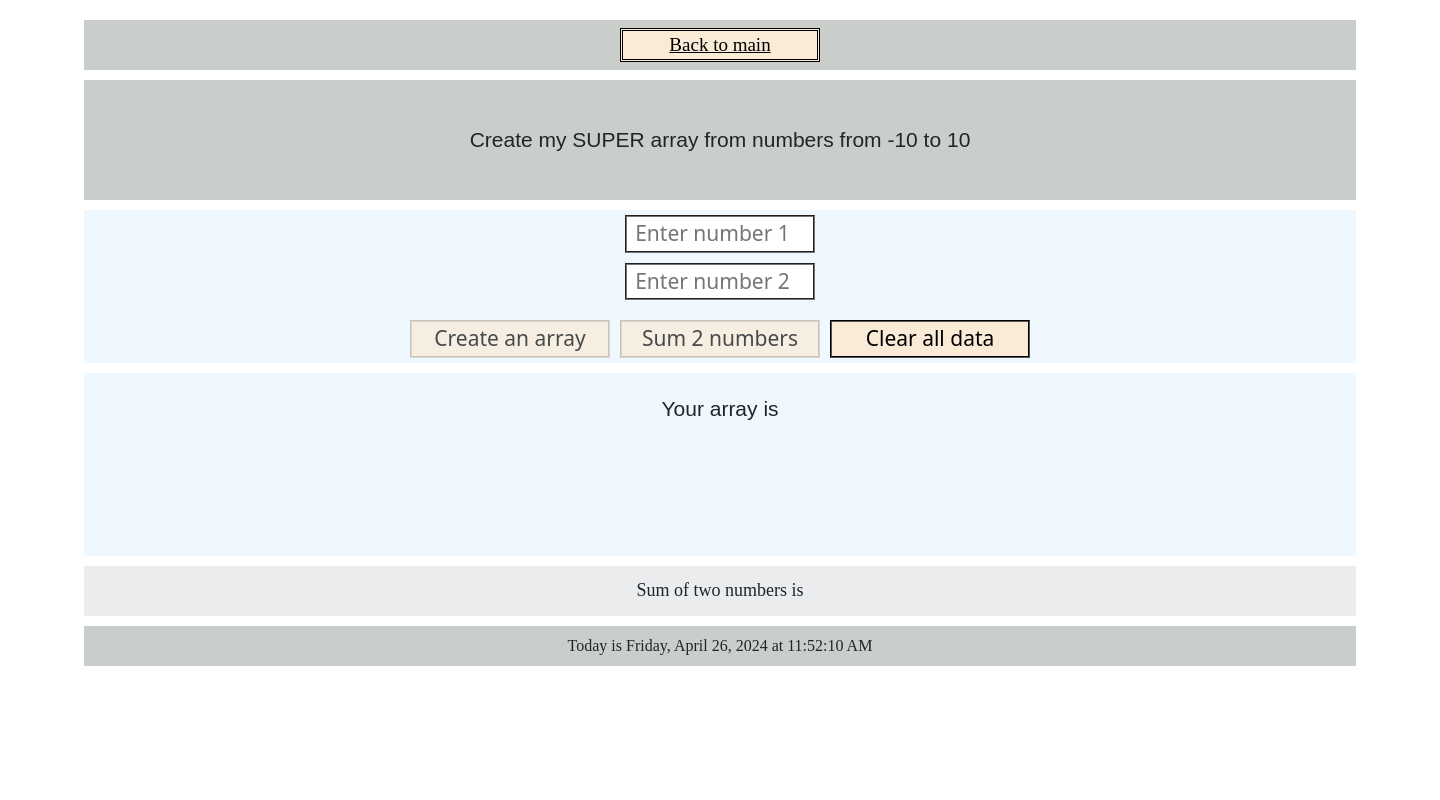
it: check options - validation of one item with blur › input no item
Focus the number field with id "num1" at (720,234), box [625,215,815,253]
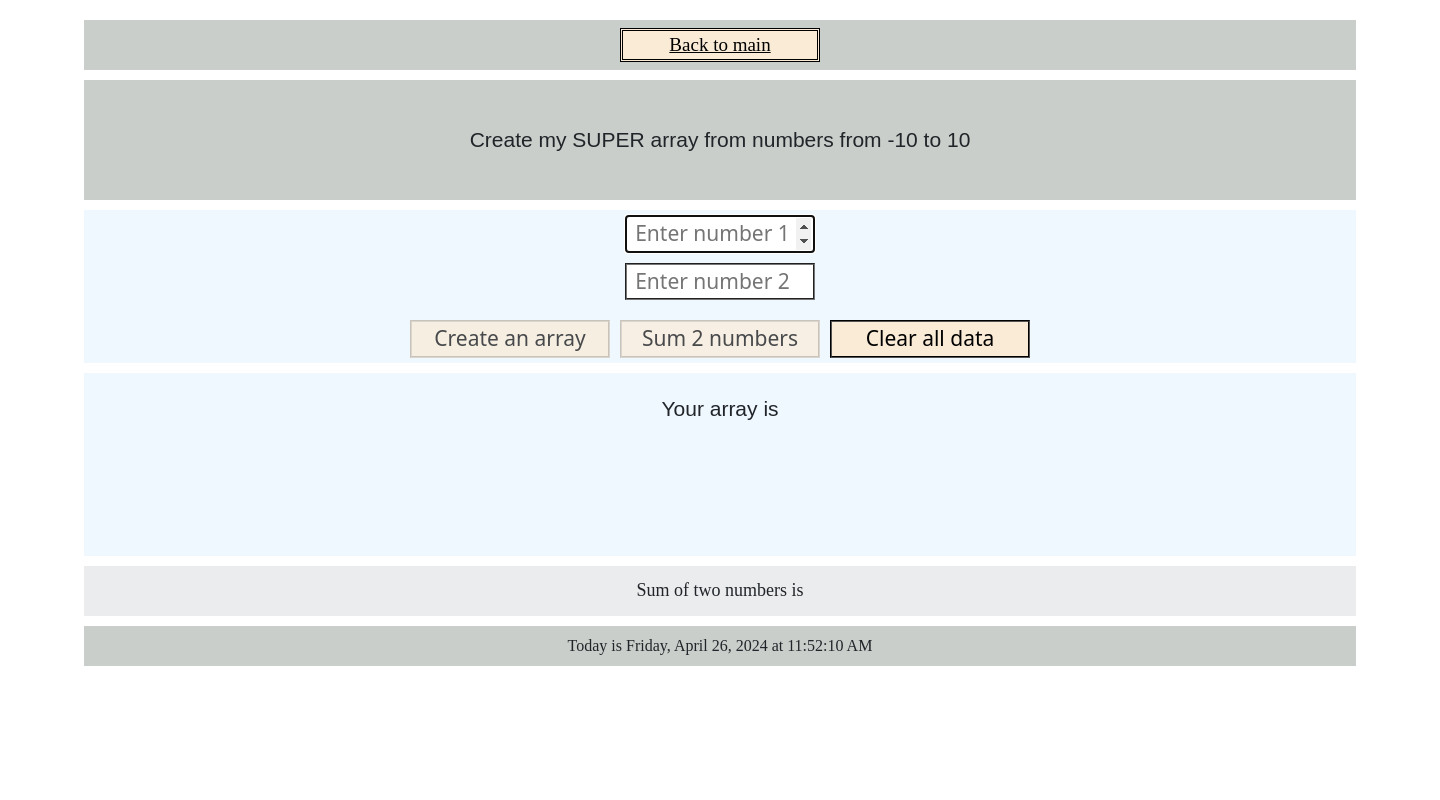
Leave the number field with id "num1", box [625,215,815,253]
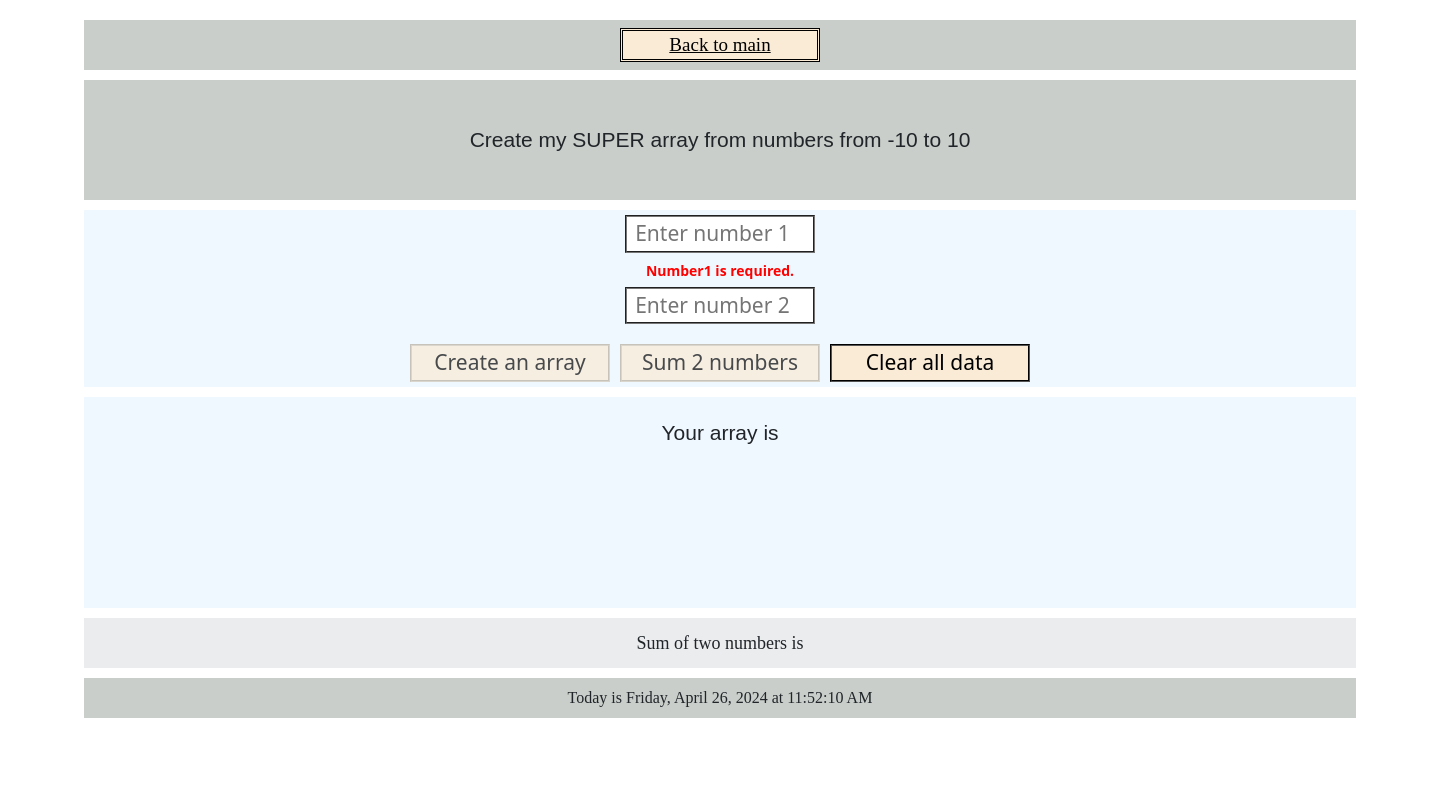
Result: the text "Number1 is required." is shown at [646,260,794,280]
Result: the text with class "small1" shows "Number1 is required" at [646,261,794,280]
Focus the number field with id "num2" at (720,306), box [625,287,815,325]
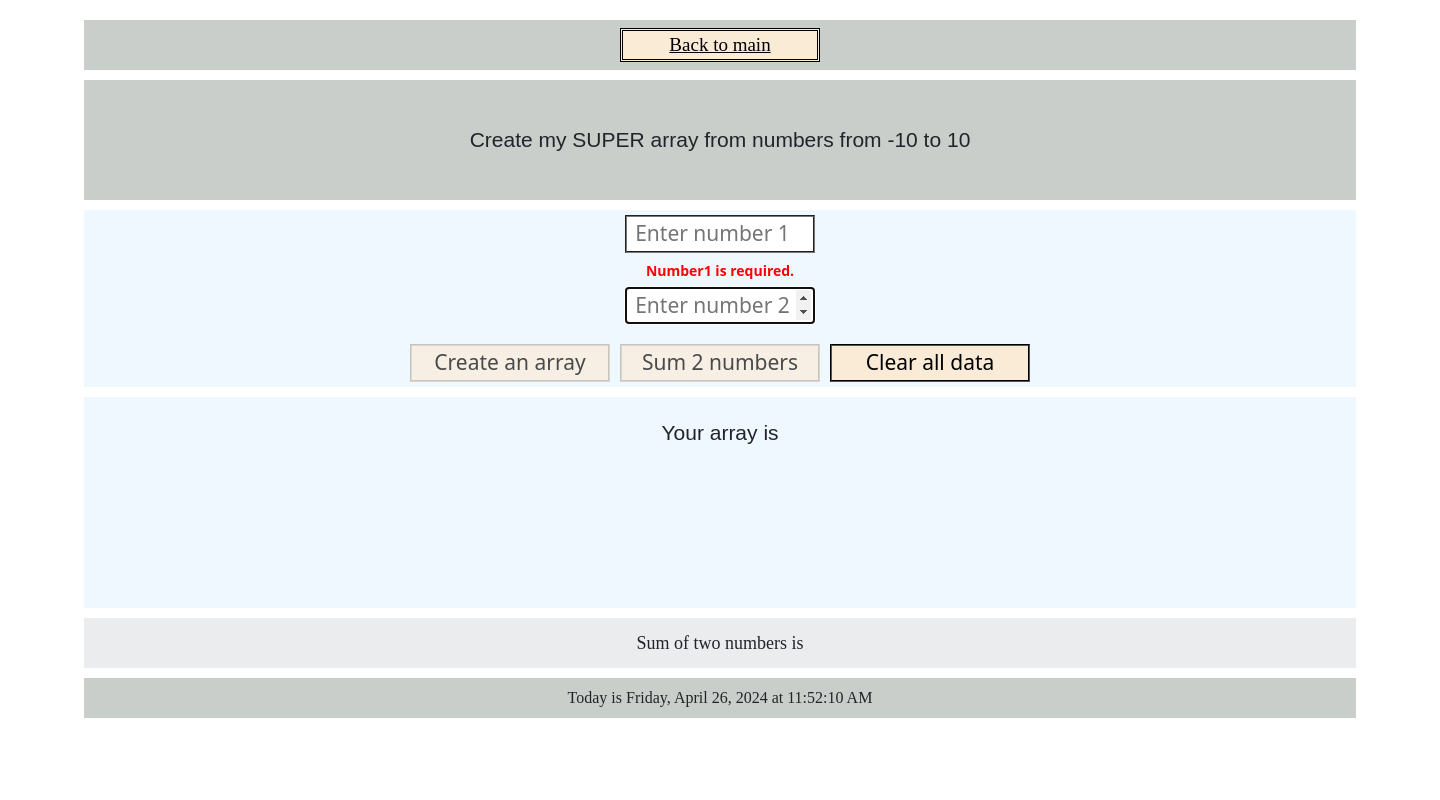
Leave the number field with id "num2", box [625,287,815,325]
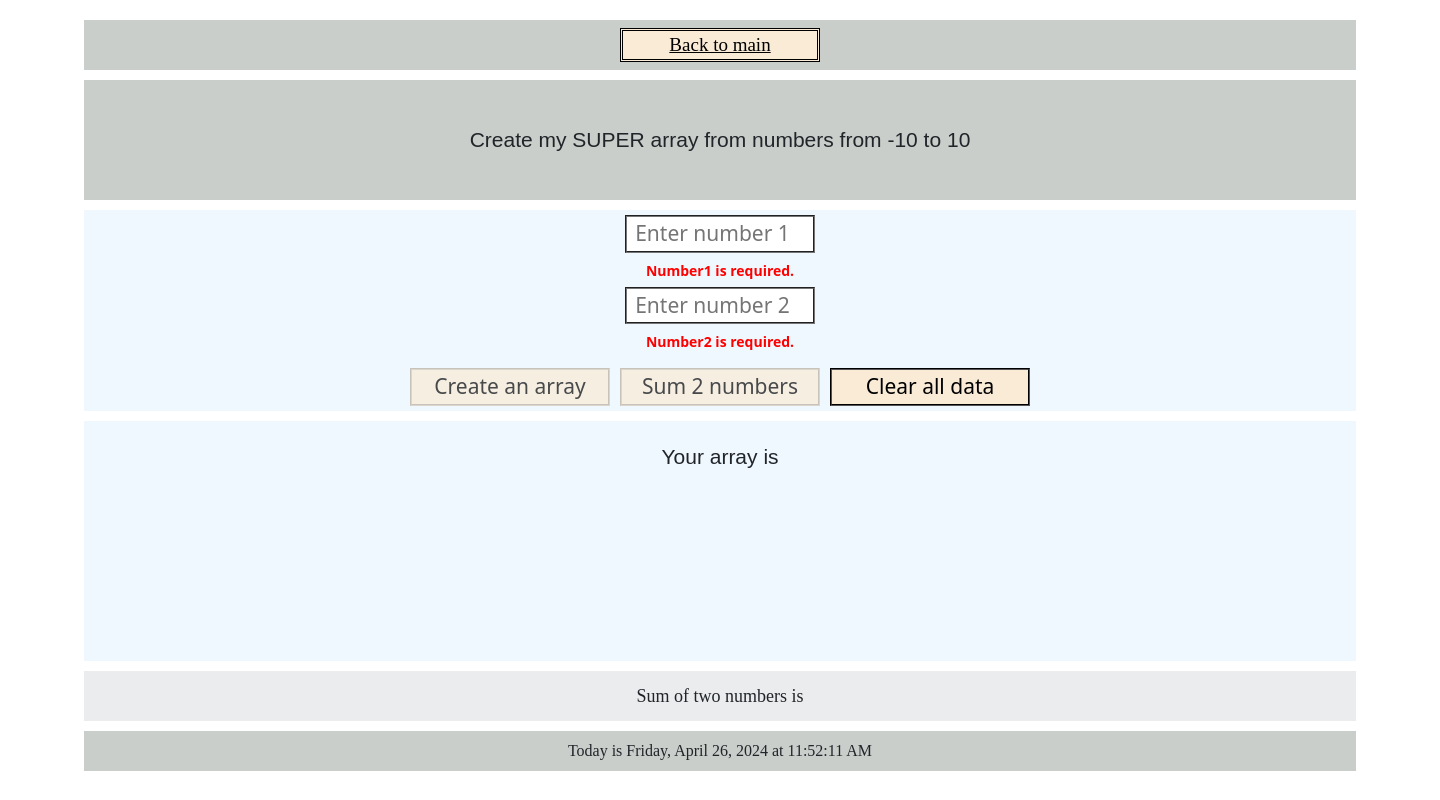
Expected: the button with id "createArray" is disabled, [410,368,610,406]
Result: the text with class "small2" shows "Number2 is required" at [646,332,794,351]
